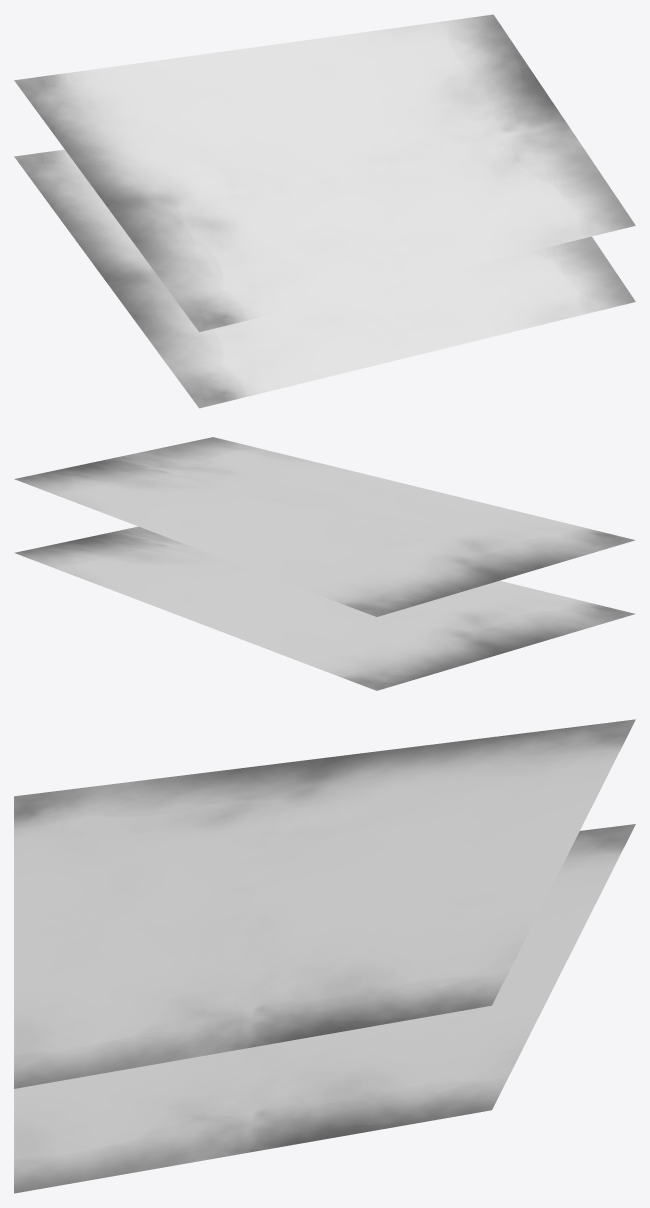
File: CourseWinter_CurveFloor_7_15.fbx
3 renders of one model, top to bottom at view 1: azimuth 30°, elevation 25°; view 2: azimuth 150°, elevation 25°; view 3: azimuth 270°, elevation 25°, orthographic. The views are drawn at different scales.
Visible parts, largest first — view 1: polySurface709; view 2: polySurface709; view 3: polySurface709.
Boxes of the visible parts, x1,y1,x2,y2 form: polySurface709: (14,14,635,408); polySurface709: (14,437,635,690); polySurface709: (14,719,635,1193).
Size of the model in its own units: 6.44 by 2 by 5.39.
1 material, 1 textured.
